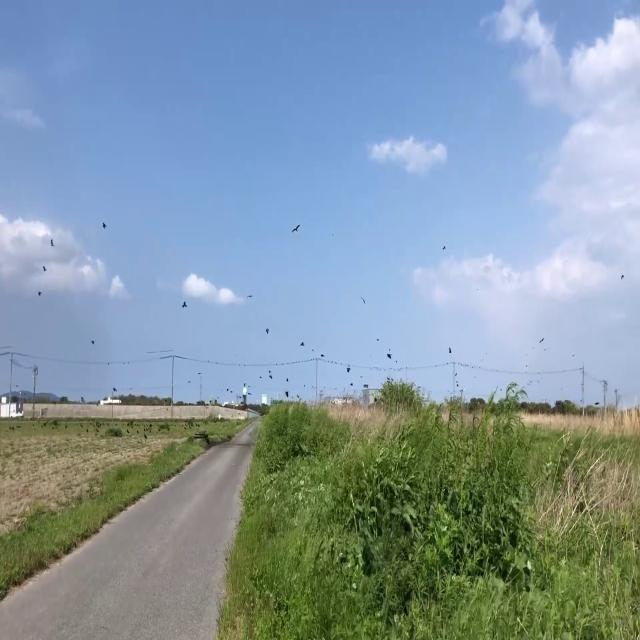bird: (292, 219, 300, 238), (387, 347, 392, 361), (265, 322, 270, 334), (448, 344, 452, 358), (182, 298, 186, 312), (620, 270, 624, 283)
